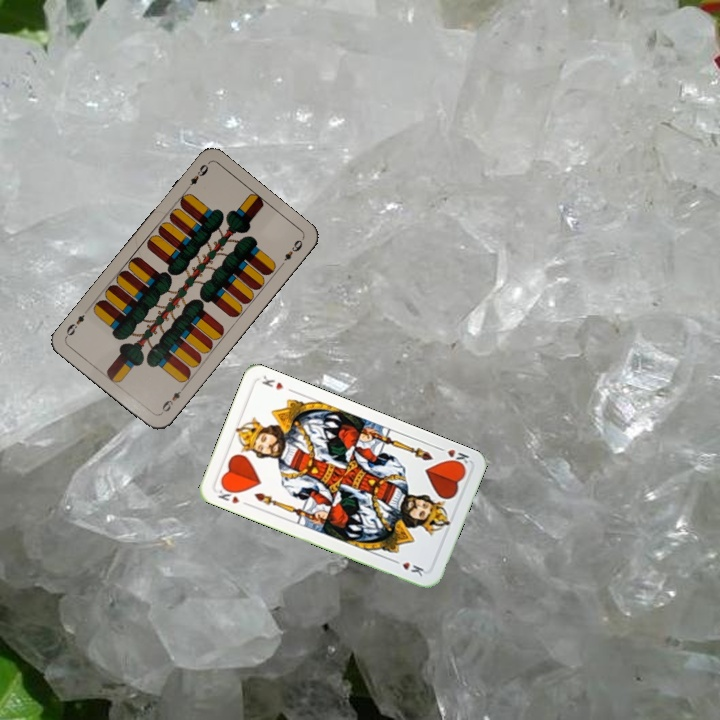E9: (157, 383, 187, 417), (181, 160, 211, 194)
HK: (433, 443, 472, 470), (212, 482, 242, 506)
